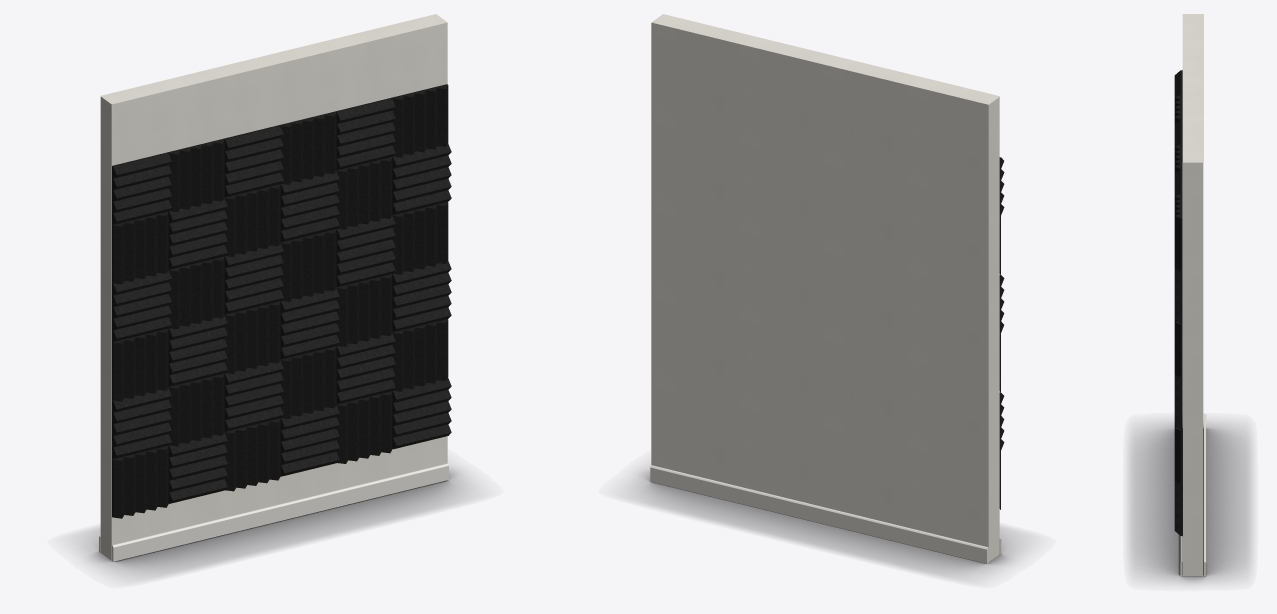
The model's file is wall_foam.glb.
3 views of the same model, side by side, from view 1: azimuth 30°, elevation 25°; view 2: azimuth 150°, elevation 25°; view 3: azimuth 270°, elevation 25° (orthographic). The views are drawn at different scales.
Parts seen in each view (by area): view 1: wall_foam_LOD0, wall_foam_Shadow; view 2: wall_foam_LOD0, wall_foam_Shadow; view 3: wall_foam_LOD0, wall_foam_Shadow.
Part boxes in pixels (box(x1,y1,x2,y2)): wall_foam_LOD0: box(99, 14, 451, 561); wall_foam_Shadow: box(81, 467, 470, 577); wall_foam_LOD0: box(650, 14, 1004, 563); wall_foam_Shadow: box(631, 468, 1022, 577); wall_foam_LOD0: box(1174, 14, 1206, 576); wall_foam_Shadow: box(1130, 422, 1251, 583).
Size of what is drawn, in the model's own units: 2.64 by 2.6 by 0.82.
Materials: 4 (3 with a texture image).
